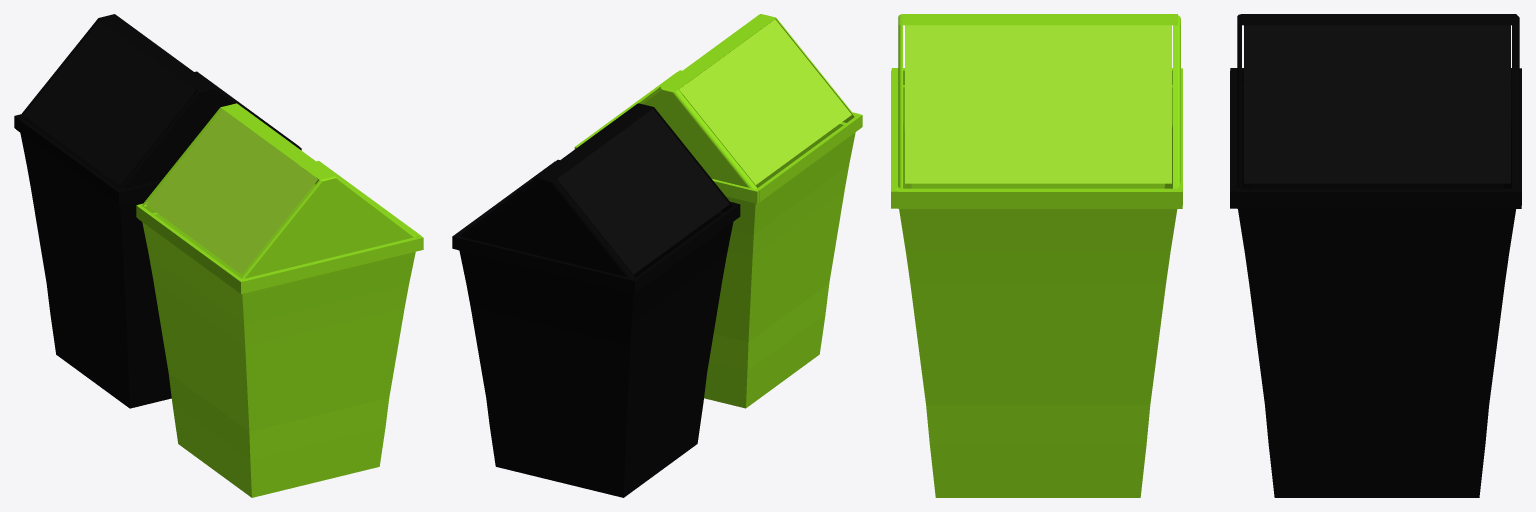
The model's file is tACHODEBASURA.fbx.
The picture shows the model from 3 angles, left to right: view 1: azimuth 30°, elevation 25°; view 2: azimuth 150°, elevation 25°; view 3: azimuth 270°, elevation 25°; orthographic projection. The views are drawn at different scales.
Visible parts, largest first — view 1: Cube.003, Cube, verde, Cube.001; view 2: Cube, Cube.003, Cube.001, verde; view 3: Cube.003, Cube, Cube.001, verde.
Part boxes in pixels (x1,y1,x2,y2): Cube.003: [136, 103, 423, 497]; Cube: [14, 14, 301, 408]; verde: [146, 109, 318, 274]; Cube.001: [24, 19, 195, 185]; Cube: [452, 103, 740, 497]; Cube.003: [574, 14, 862, 408]; Cube.001: [557, 109, 729, 274]; verde: [679, 19, 851, 184]; Cube.003: [891, 14, 1182, 497]; Cube: [1230, 14, 1521, 497]; Cube.001: [1244, 25, 1510, 183]; verde: [905, 25, 1171, 183].
Bounding box in the file's own units: 286 × 469 × 616.
